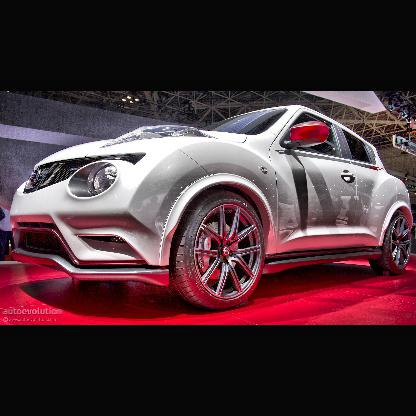Nissan Juke Hatchback 2012: (10, 103, 416, 311)
